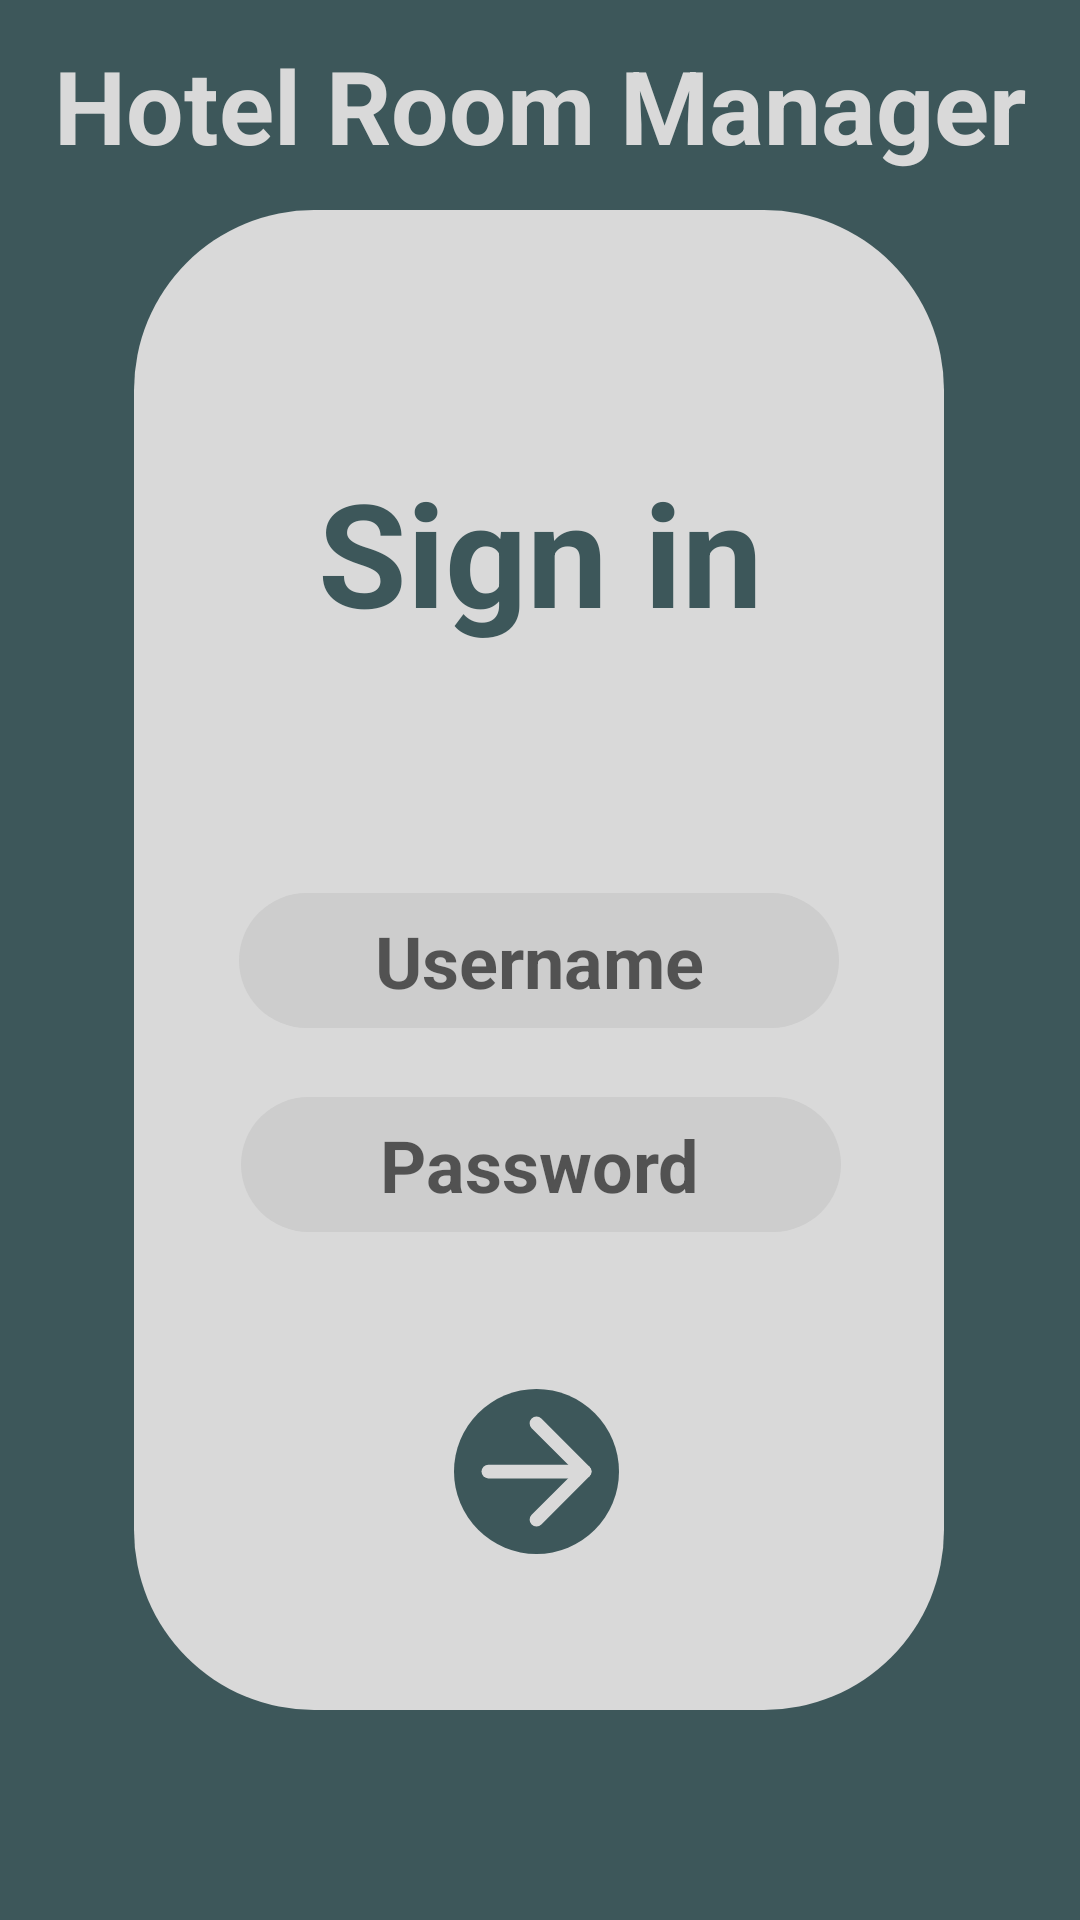

Named icons in this screenshot (1080w x 1920h) and their centers, point (x, y):
arrow right: point (536, 1471)
